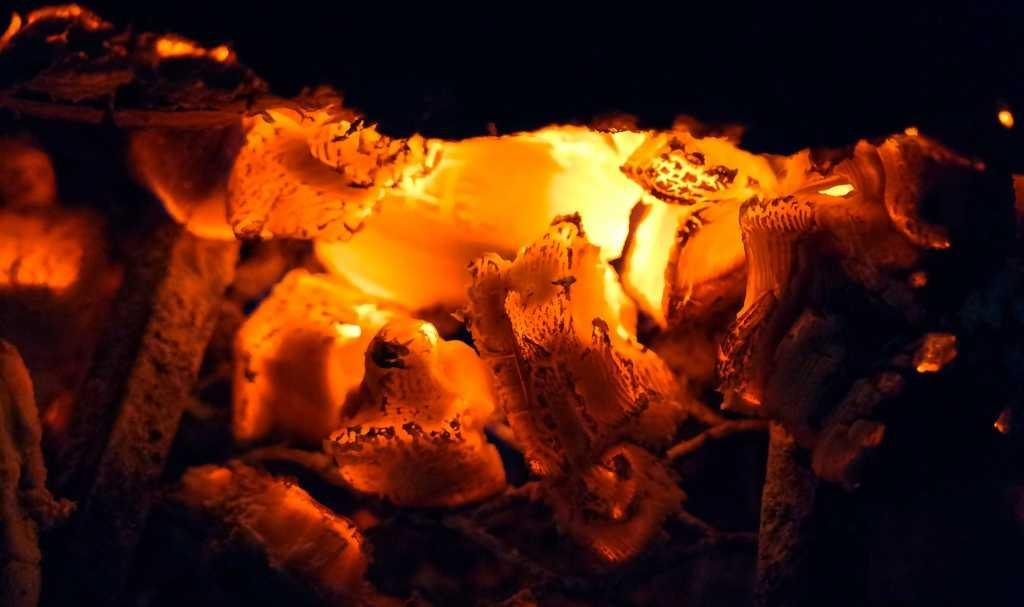fire: (562, 143, 633, 240)
